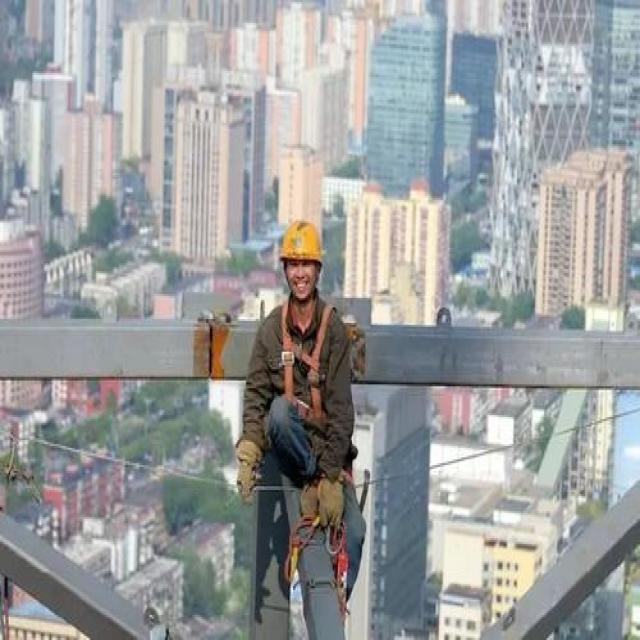Arnes_seguridad: (271, 290, 342, 429)
